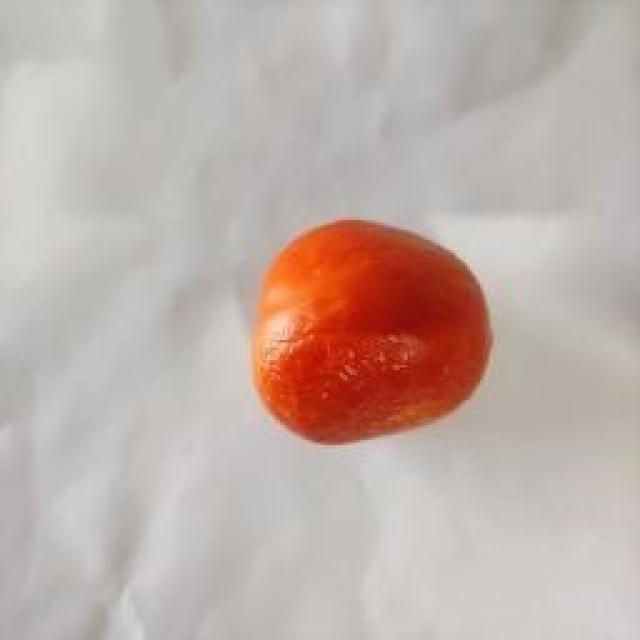overripe: (250, 216, 496, 446)
